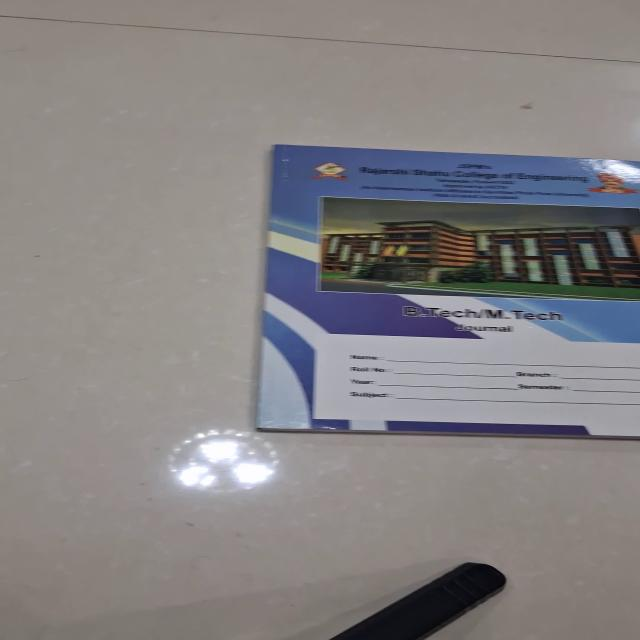paper: (254, 144, 639, 438)
